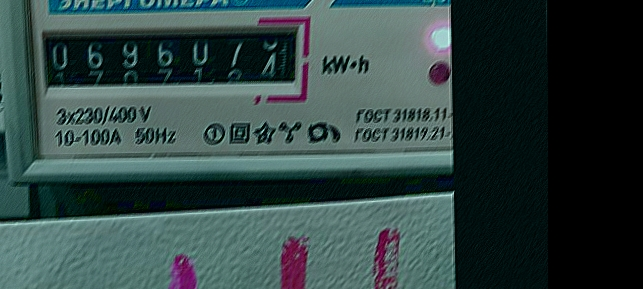0: (48, 40, 69, 70), (190, 36, 209, 66)
4: (257, 50, 277, 80)
6: (154, 37, 174, 68), (84, 39, 103, 69)
7: (225, 35, 243, 66)
9: (119, 39, 139, 68)
screen: (30, 10, 314, 106)
